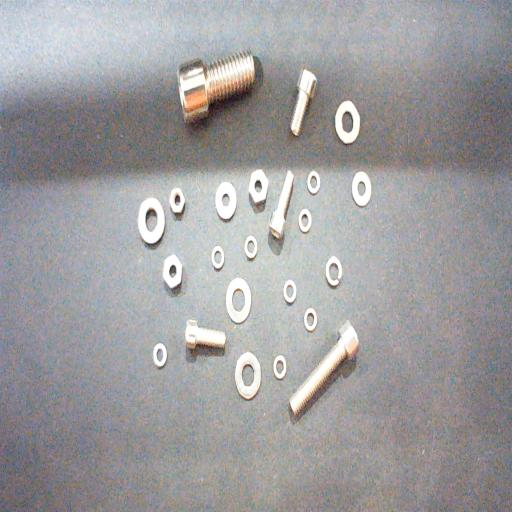nut: (248, 169, 268, 205), (163, 255, 183, 290), (169, 188, 185, 216)
screw: (290, 320, 358, 416), (176, 52, 254, 123), (290, 68, 318, 136), (268, 170, 294, 240), (185, 320, 226, 348)
washer: (138, 198, 165, 245), (235, 351, 261, 399), (226, 277, 251, 323), (335, 100, 360, 144), (215, 180, 237, 220), (352, 170, 371, 206), (326, 256, 342, 287), (244, 235, 258, 261), (211, 246, 225, 271), (307, 170, 321, 195), (154, 343, 168, 367), (283, 280, 297, 304), (273, 356, 287, 380), (304, 307, 317, 332), (298, 209, 311, 232)
